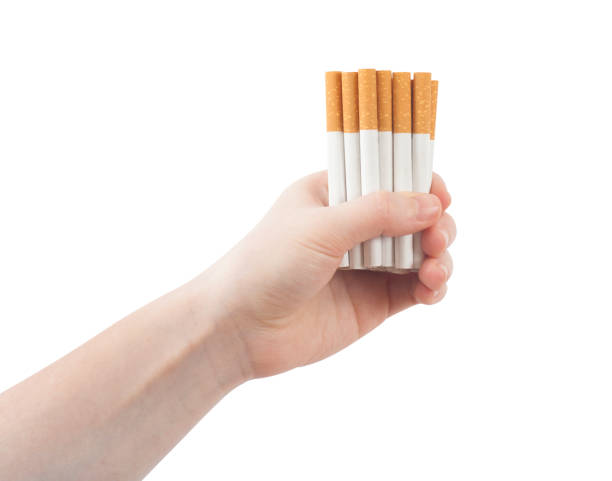cigarette: (321, 69, 350, 271), (341, 69, 369, 273), (357, 66, 383, 268), (412, 69, 433, 269), (375, 69, 395, 267), (392, 70, 411, 271), (429, 77, 439, 142)
